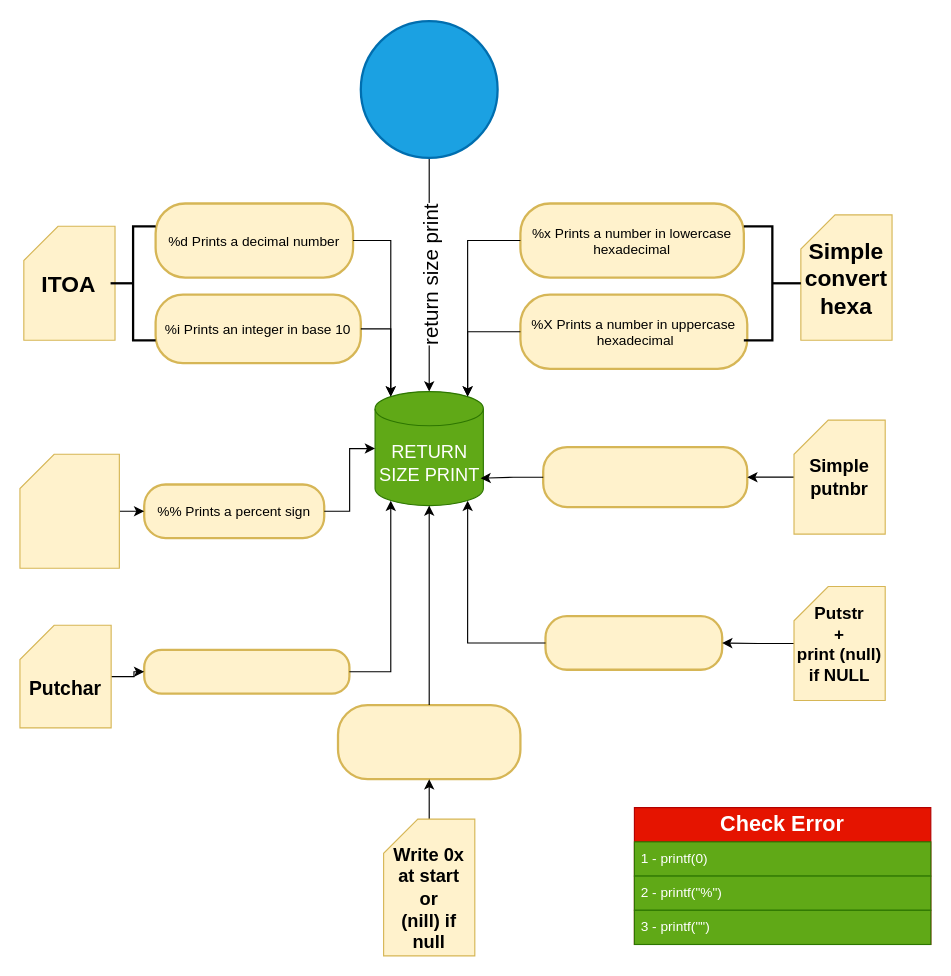
The diagram is 951 pixels wide and 976 high, and some of its shapes have lost their labels. Here are the shapes that lost their labels. From the top down, the centre of each, then its label:
At point (428, 88): "ft_printf".
At point (645, 477): "%u Prints an unsigned decimal number".
At point (69, 510): "Just print".
At point (633, 642): "%s Prints a string".
At point (246, 671): "%c Prints a single character".
At point (428, 741): "%p Prints void * in hexadecimal".
